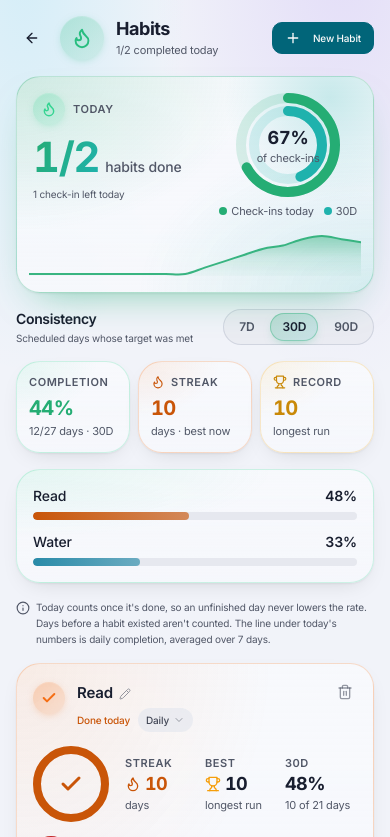
Test case: the Habits page › the time frame changes the rates
What coordinates should you click on to do the following:
click the radio button with test id "habits-range-7d"
I would click on:
 (247, 327)
Its box is [227,313,266,340].
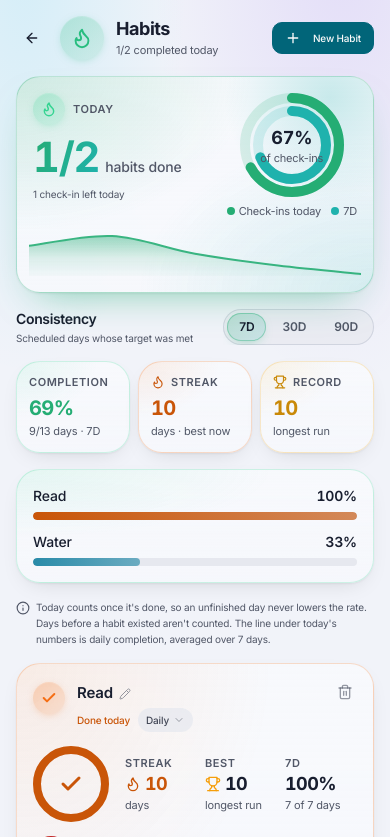
Now the text with test id "text-habits-completion" reads "69%", box [29,396,73,420]
Now the element with test id "stat-rate-h-read" shows "100%", box [285,773,336,794]
